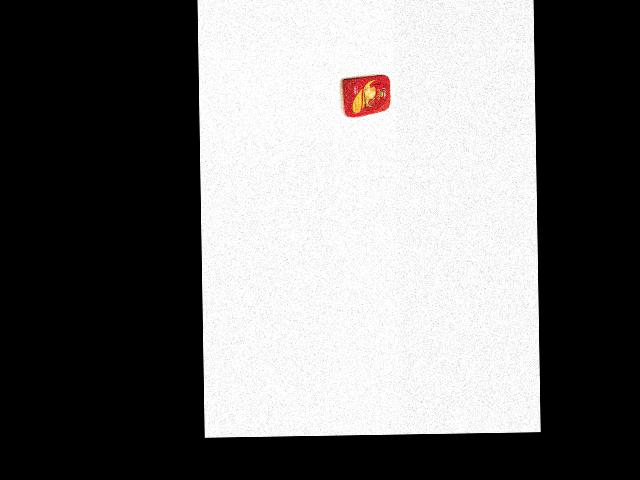cheese: (339, 72, 393, 117)
